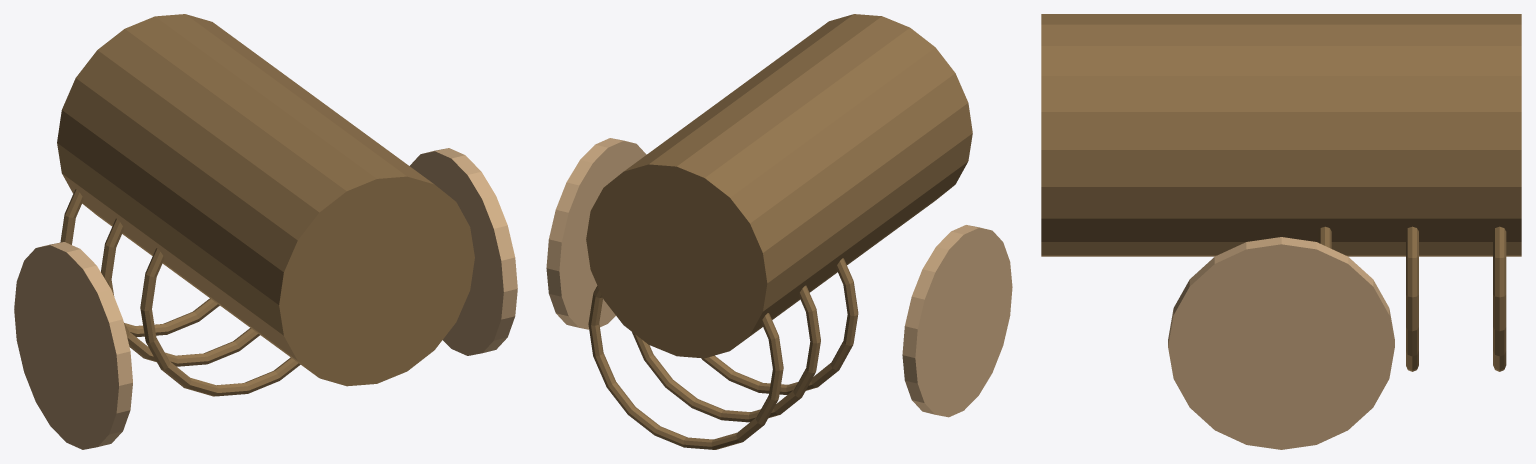
Rendered from log.fbx.
3 renders of one model, left to right at view 1: azimuth 30°, elevation 25°; view 2: azimuth 150°, elevation 25°; view 3: azimuth 270°, elevation 25°, orthographic. The views are drawn at different scales.
Parts seen in each view (by area): view 1: Log_Body, Log_End, Log_End.001, Log_BarkRing, Log_BarkRing.001, Log_BarkRing.002; view 2: Log_Body, Log_End, Log_End.001, Log_BarkRing.002, Log_BarkRing.001, Log_BarkRing; view 3: Log_Body, Log_End.001, Log_BarkRing.002, Log_BarkRing.001.
Boxes of the visible parts, box(x1,y1,x2,y2) form: Log_Body: box(57, 14, 474, 386); Log_End: box(14, 242, 132, 449); Log_End.001: box(410, 148, 517, 355); Log_BarkRing: box(140, 248, 300, 396); Log_BarkRing.001: box(101, 218, 259, 366); Log_BarkRing.002: box(60, 189, 219, 337); Log_Body: box(586, 14, 972, 358); Log_End: box(902, 225, 1012, 417); Log_End.001: box(546, 138, 646, 329); Log_BarkRing.002: box(588, 286, 783, 449); Log_BarkRing.001: box(632, 285, 820, 422); Log_BarkRing: box(701, 258, 858, 394); Log_Body: box(1041, 14, 1521, 256); Log_End.001: box(1168, 237, 1394, 449); Log_BarkRing.002: box(1493, 226, 1506, 371); Log_BarkRing.001: box(1406, 226, 1418, 371).
Size of the model in its own units: 114 by 85 by 110.
